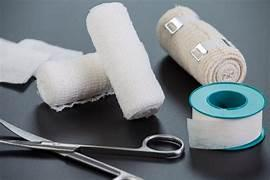Bandage: (87, 3, 164, 118), (0, 39, 112, 110), (156, 6, 246, 83), (18, 39, 112, 110), (187, 83, 264, 149), (36, 53, 112, 110), (0, 39, 82, 83), (0, 39, 50, 83), (18, 39, 82, 59)
cotton: (187, 109, 261, 148), (0, 38, 14, 42)
